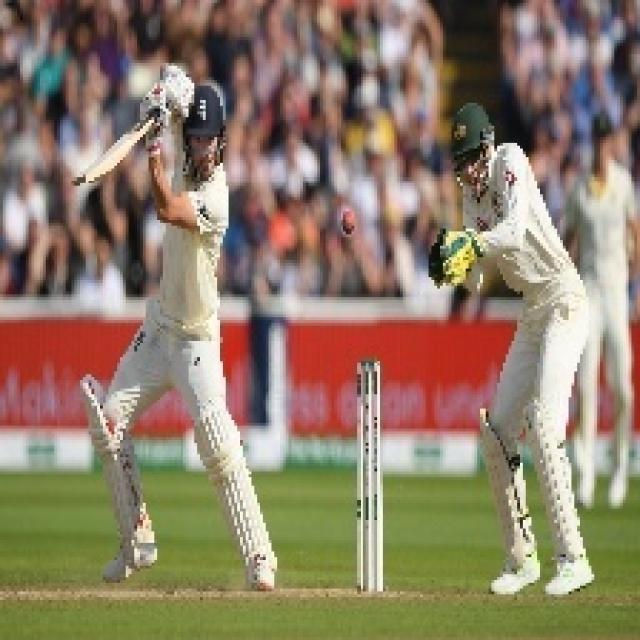batsman: (67, 46, 295, 600)
wicket: (335, 344, 393, 604)
